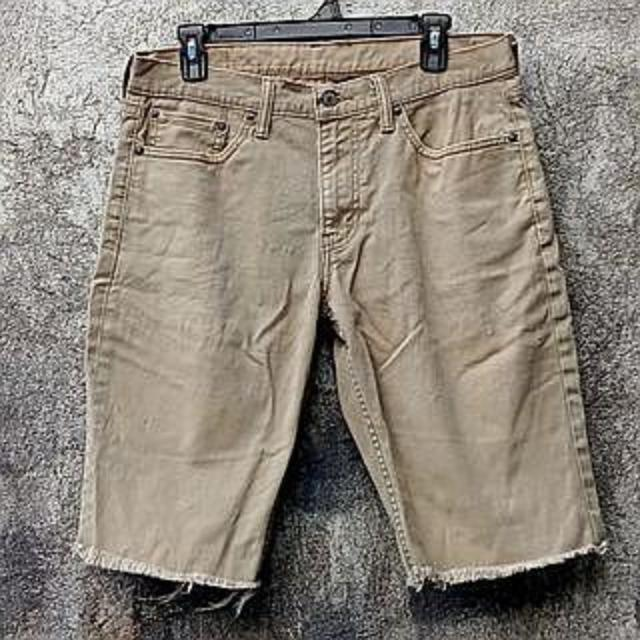TROUSER: (59, 29, 623, 598)
